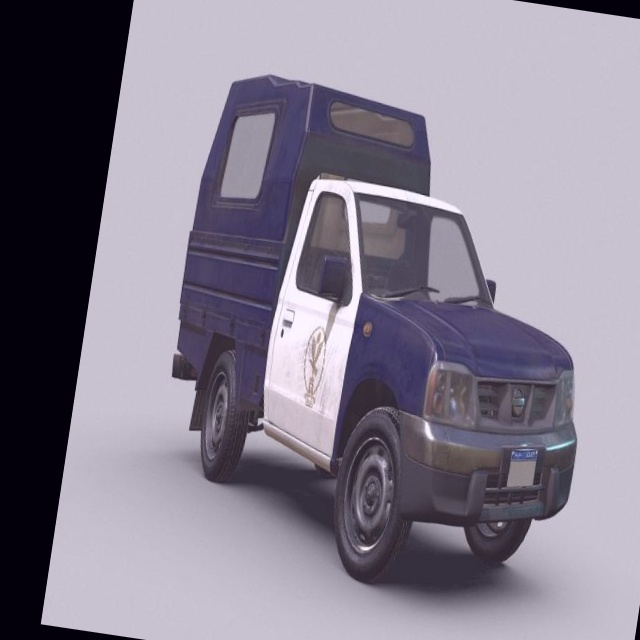police-car: (142, 65, 625, 611)
